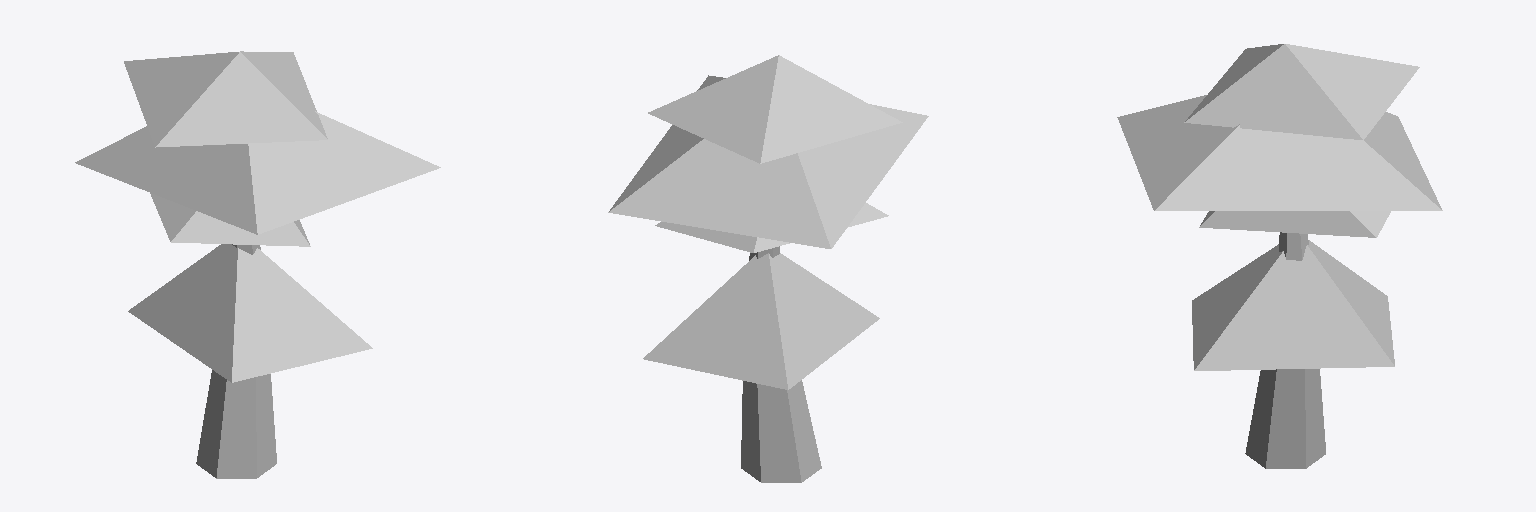
The model's file is tree05.obj.
The picture shows the model from 3 angles: view 1: azimuth 30°, elevation 25°; view 2: azimuth 150°, elevation 25°; view 3: azimuth 270°, elevation 25°; orthographic projection.
Visible parts, largest first — view 1: Converted_object_1; view 2: Converted_object_1; view 3: Converted_object_1.
Boxes of the visible parts, x1,y1,x2,y2 form: Converted_object_1: [75, 51, 440, 478]; Converted_object_1: [608, 55, 928, 482]; Converted_object_1: [1117, 44, 1442, 468].
Bounding box in the file's own units: 4.26 × 6.84 × 4.9.